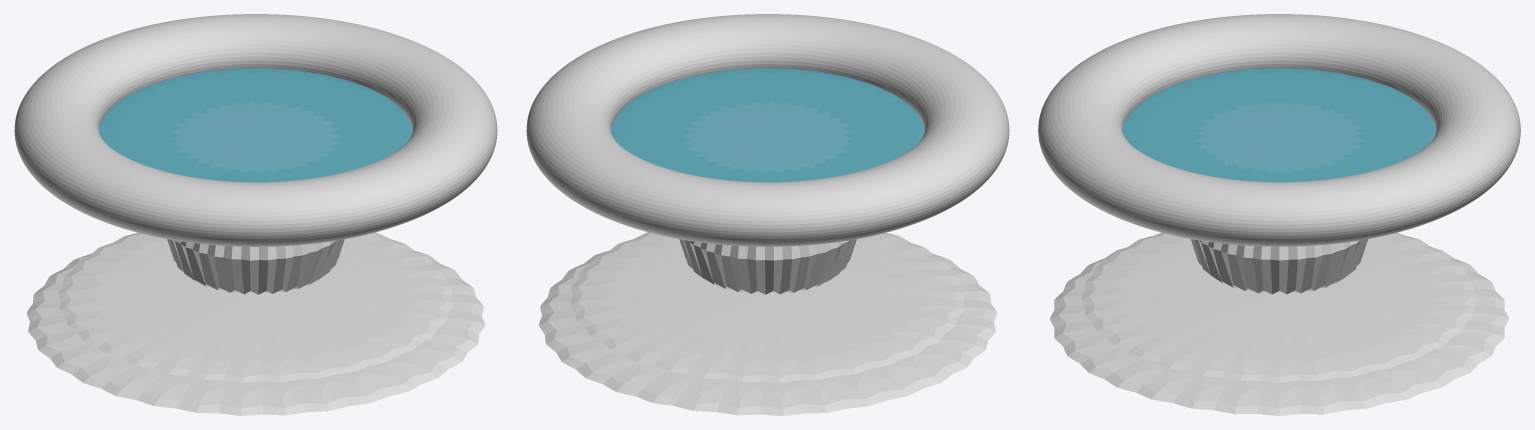
The picture shows the model from 3 angles, left to right: view 1: azimuth 30°, elevation 25°; view 2: azimuth 150°, elevation 25°; view 3: azimuth 270°, elevation 25°; orthographic projection.
Parts seen in each view (by area): view 1: Bowl, Mid_Ring, Water_Pool, Base_Bottom, Pedestal; view 2: Bowl, Mid_Ring, Water_Pool, Base_Bottom, Pedestal; view 3: Bowl, Mid_Ring, Water_Pool, Base_Bottom, Pedestal.
Boxes of the visible parts, <box> form: Bowl: <box>14,14,497,246</box>; Mid_Ring: <box>58,232,453,382</box>; Water_Pool: <box>99,68,412,182</box>; Base_Bottom: <box>26,250,485,415</box>; Pedestal: <box>167,239,344,294</box>; Bowl: <box>526,14,1009,246</box>; Mid_Ring: <box>570,232,965,382</box>; Water_Pool: <box>611,68,924,182</box>; Base_Bottom: <box>538,250,997,415</box>; Pedestal: <box>679,239,856,294</box>; Bowl: <box>1038,14,1520,246</box>; Mid_Ring: <box>1081,232,1477,382</box>; Water_Pool: <box>1122,67,1436,182</box>; Base_Bottom: <box>1050,248,1508,415</box>; Pedestal: <box>1191,239,1367,294</box>.
Bounding box in the file's own units: 4.35 × 2.26 × 4.35.
